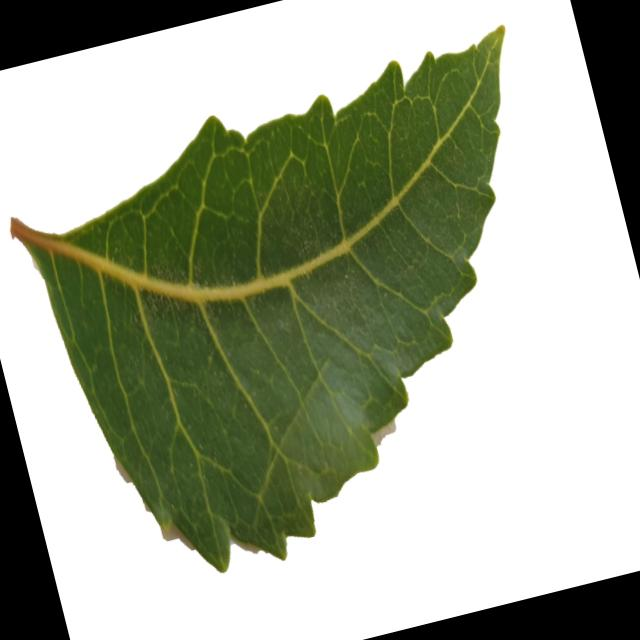Medicinal-Neem: (0, 20, 619, 607)
